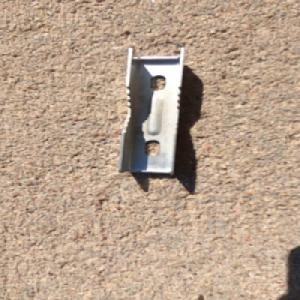ClampPart: (115, 46, 191, 176)
